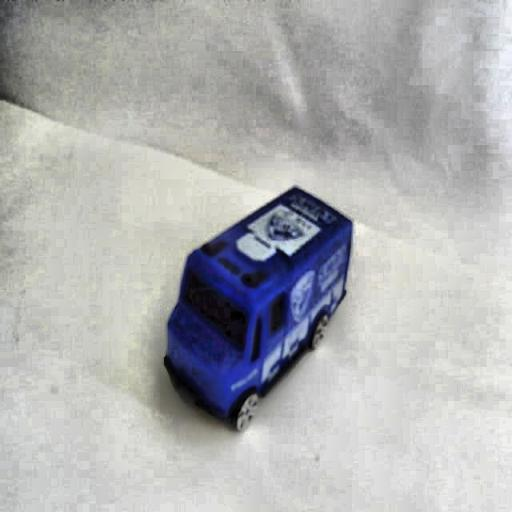police car: (165, 175, 355, 438)
